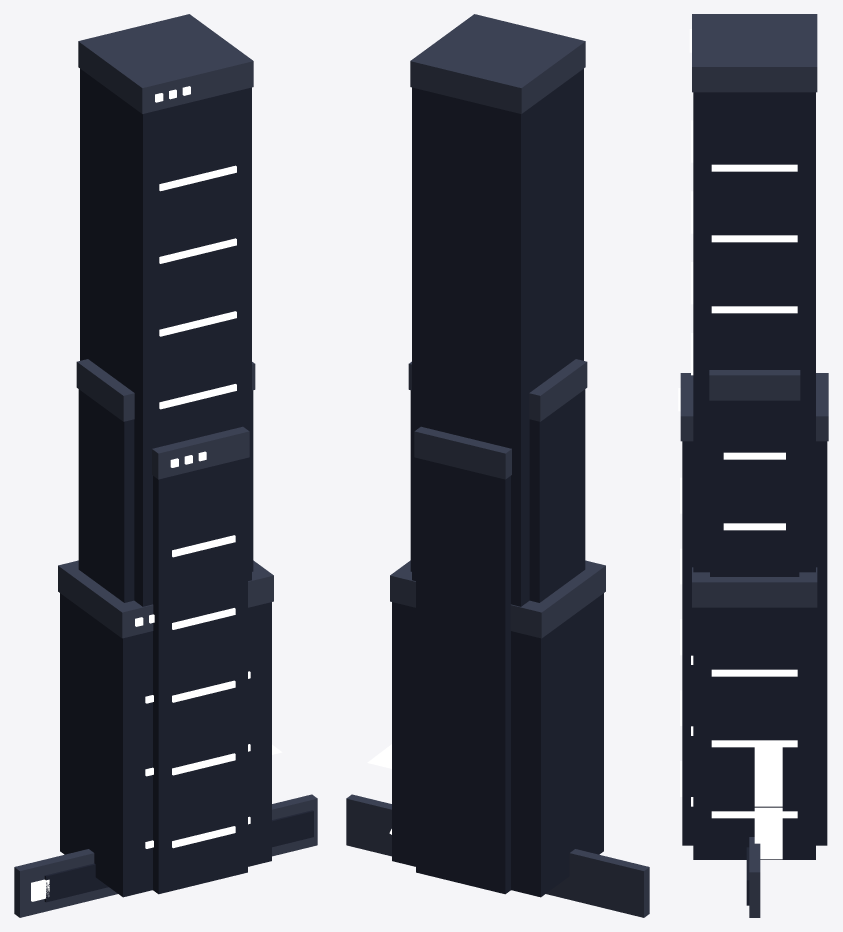
The model's file is city.glb.
The picture shows the model from 3 angles, left to right: view 1: azimuth 30°, elevation 25°; view 2: azimuth 150°, elevation 25°; view 3: azimuth 270°, elevation 25°; orthographic projection. The views are drawn at different scales.
Parts seen in each view (by area): view 1: Tower_E, Tower_F, Tower_D, Tower_B, Billboard; view 2: Tower_E, Tower_F, Tower_D, Tower_B, Billboard; view 3: Tower_E, Tower_D, Tower_B, Tower_F, Cursor, Billboard.
Part boxes in pixels (left/top/right/bottom): Tower_E: left=78, top=14, right=253, bottom=892; Tower_F: left=152, top=426, right=249, bottom=894; Tower_D: left=58, top=560, right=273, bottom=897; Tower_B: left=76, top=359, right=255, bottom=602; Billboard: left=14, top=794, right=317, bottom=917; Tower_E: left=410, top=14, right=585, bottom=606; Tower_F: left=414, top=426, right=511, bottom=894; Tower_D: left=390, top=560, right=605, bottom=897; Tower_B: left=408, top=359, right=587, bottom=602; Billboard: left=346, top=794, right=649, bottom=917; Tower_E: left=689, top=14, right=817, bottom=572; Tower_D: left=691, top=567, right=817, bottom=859; Tower_B: left=709, top=370, right=800, bottom=576; Tower_F: left=678, top=373, right=828, bottom=845; Cursor: left=754, top=747, right=782, bottom=859; Billboard: left=746, top=837, right=760, bottom=917.
Bounding box in the file's own units: 6 × 15.95 × 2.7.
